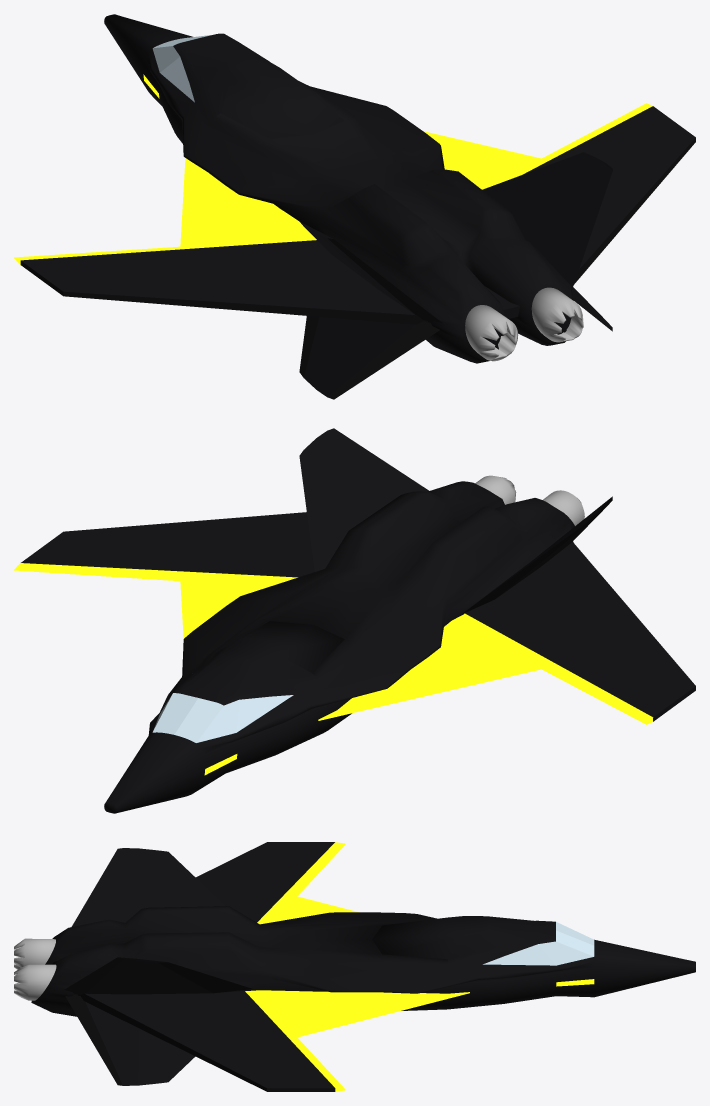
File: cobra_2.gltf
3 renders of one model, top to bottom at view 1: azimuth 30°, elevation 25°; view 2: azimuth 150°, elevation 25°; view 3: azimuth 270°, elevation 25°, orthographic. The views are drawn at different scales.
Visible parts, largest first — view 1: Fusalage, Wing, Flap1, Aura2, Flap2, Engines, Aura1, Cockpit; view 2: Fusalage, Wing, Flap1, Aura2, Aura1, Cockpit, Engines; view 3: Fusalage, Wing, Flap1, Aura2, Flap2, Cockpit, Engines, Aura1.
Part boxes in pixels (left/top/right/bottom): Fusalage: left=104, top=14, right=573, bottom=363; Wing: left=20, top=106, right=695, bottom=324; Flap1: left=300, top=152, right=612, bottom=322; Aura2: left=180, top=131, right=541, bottom=246; Flap2: left=299, top=287, right=612, bottom=399; Engines: left=465, top=287, right=583, bottom=361; Aura1: left=14, top=103, right=652, bottom=264; Cockpit: left=152, top=35, right=211, bottom=102; Fusalage: left=104, top=481, right=574, bottom=813; Wing: left=21, top=512, right=695, bottom=721; Flap1: left=299, top=428, right=612, bottom=614; Aura2: left=180, top=580, right=541, bottom=720; Aura1: left=14, top=563, right=653, bottom=724; Cockpit: left=152, top=693, right=293, bottom=742; Engines: left=475, top=475, right=584, bottom=525; Fusalage: left=31, top=906, right=695, bottom=1016; Wing: left=57, top=842, right=335, bottom=1091; Flap1: left=64, top=848, right=252, bottom=994; Aura2: left=246, top=896, right=469, bottom=1037; Flap2: left=65, top=994, right=195, bottom=1085; Cockpit: left=483, top=922, right=594, bottom=965; Engines: left=14, top=938, right=56, bottom=1000; Aura1: left=245, top=842, right=345, bottom=1091.
Bounding box in the file's own units: 14.77 × 3.58 × 17.3.
